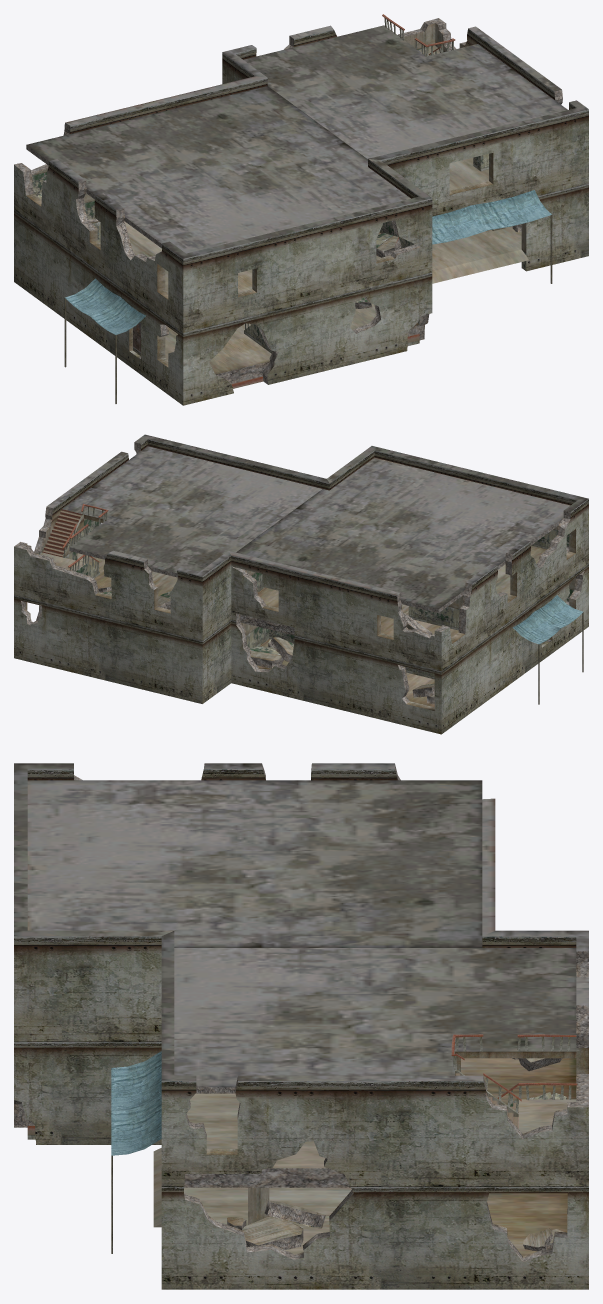
Rendered from HN_Bld1.glb.
The picture shows the model from 3 angles, top to bottom: view 1: azimuth 30°, elevation 25°; view 2: azimuth 150°, elevation 25°; view 3: azimuth 270°, elevation 25°; orthographic projection. The views are drawn at different scales.
Visible parts, largest first — view 1: _HN_Bld1; view 2: _HN_Bld1; view 3: _HN_Bld1.
Boxes of the visible parts, x1=… form: _HN_Bld1: x1=14, y1=14, x2=588, y2=405; _HN_Bld1: x1=14, y1=434, x2=588, y2=734; _HN_Bld1: x1=14, y1=763, x2=588, y2=1289.
Bounding box in the file's own units: 37.64 × 12.35 × 26.98.
7 materials, 7 textured.
